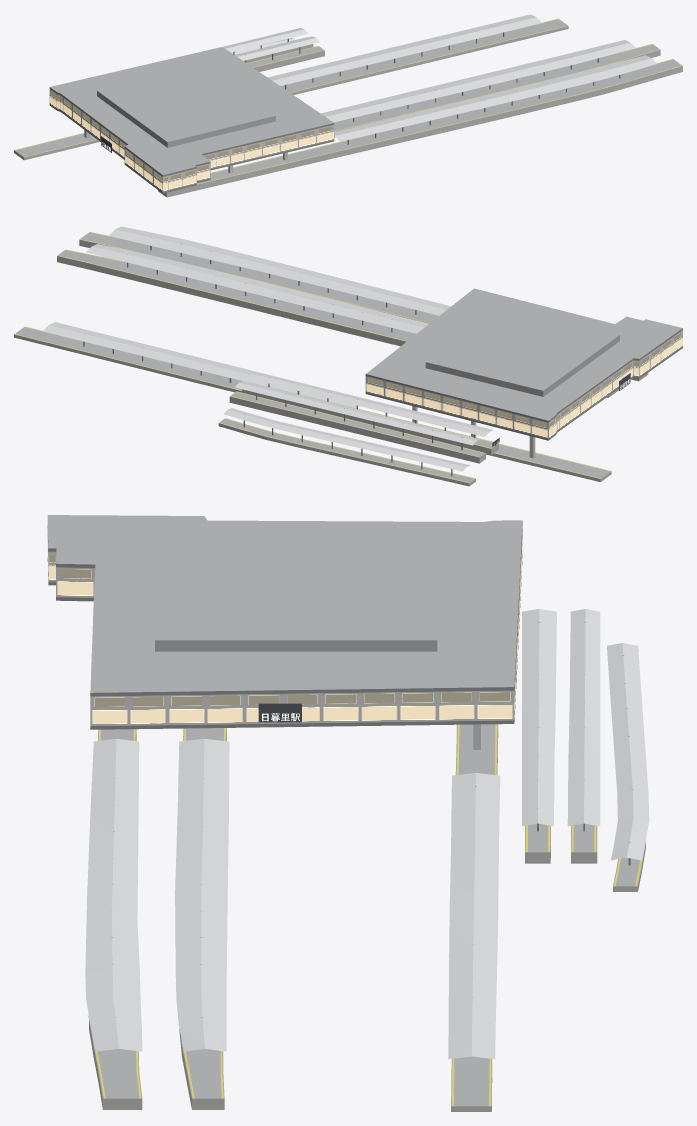
File: nippori_station.glb
3 renders of one model, top to bottom at view 1: azimuth 30°, elevation 25°; view 2: azimuth 150°, elevation 25°; view 3: azimuth 270°, elevation 25°, orthographic. The views are drawn at different scales.
Visible parts, largest first — view 1: NP_Station; view 2: NP_Station; view 3: NP_Station.
Part boxes in pixels (x1=…): NP_Station: x1=14, y1=14, x2=682, y2=197; NP_Station: x1=14, y1=226, x2=682, y2=486; NP_Station: x1=47, y1=515, x2=649, y2=1111.
Size of the model in its own units: 210 by 20 by 95.9.
10 materials, 1 textured.
